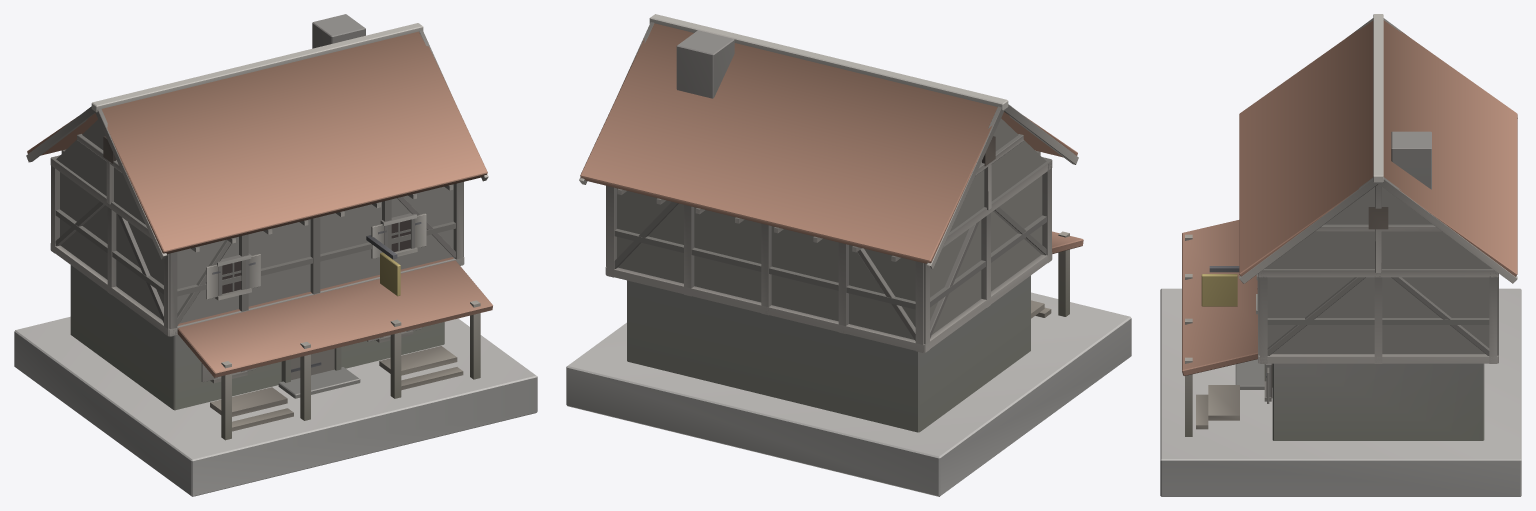
Rendered from tavern_l1_lod0.glb.
The picture shows the model from 3 angles, left to right: view 1: azimuth 30°, elevation 25°; view 2: azimuth 150°, elevation 25°; view 3: azimuth 270°, elevation 25°; orthographic projection. The views are drawn at different scales.
Visible parts, largest first — view 1: tavern_l1_lod0; view 2: tavern_l1_lod0; view 3: tavern_l1_lod0.
Part boxes in pixels (box(x1,y1,x2,y2)): tavern_l1_lod0: box(14, 14, 537, 496); tavern_l1_lod0: box(566, 14, 1131, 496); tavern_l1_lod0: box(1160, 14, 1521, 496).
Size of the model in its own units: 9.2 by 8.02 by 8.2.
